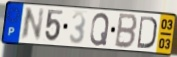3: (68, 10, 88, 45)
5: (44, 8, 65, 43)
B: (113, 12, 139, 50)
D: (136, 15, 158, 51)
N: (19, 7, 46, 42)
Q: (89, 12, 111, 47)
